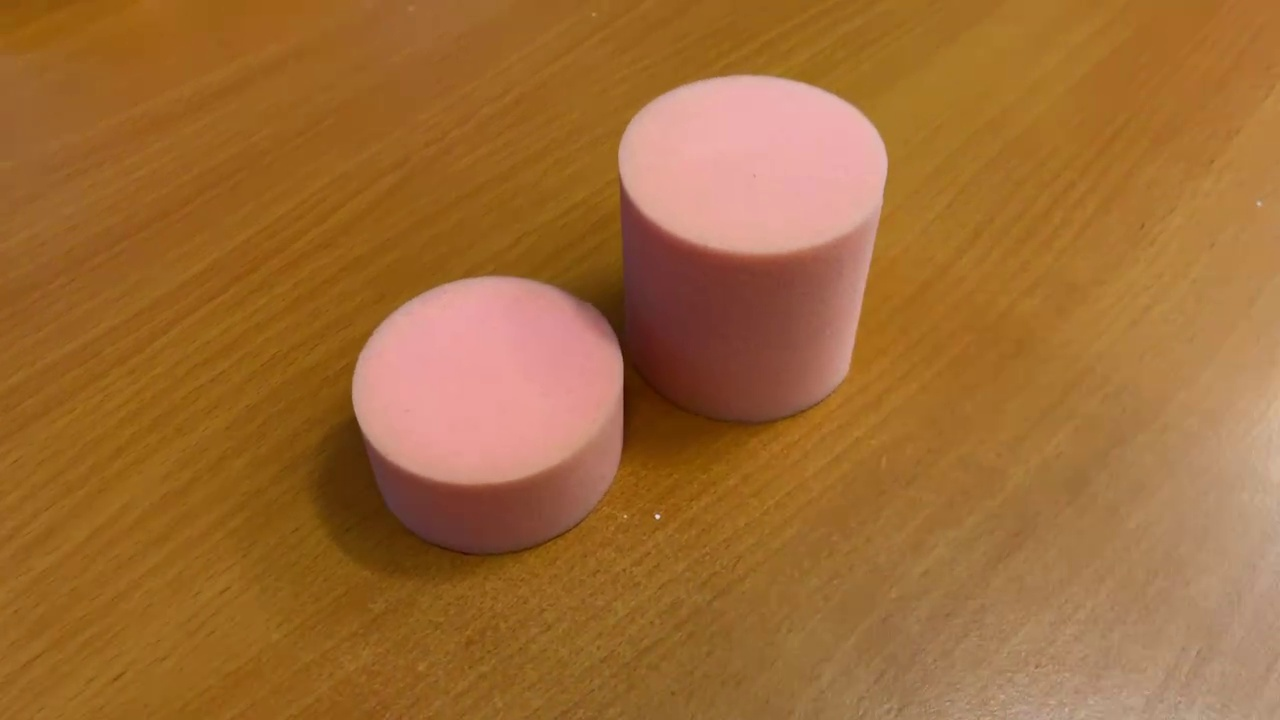Clyinder_short: (348, 269, 626, 554)
Cylinder: (614, 68, 892, 428)
